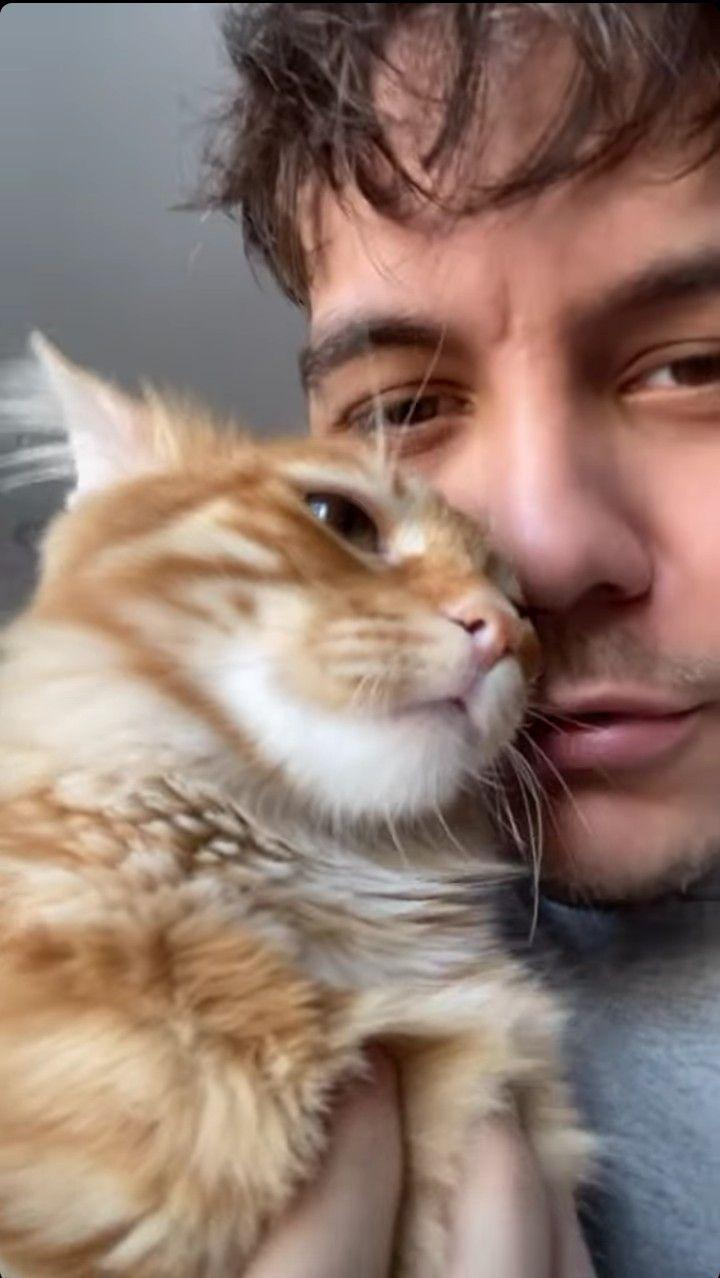kedo: (0, 328, 536, 1278)
